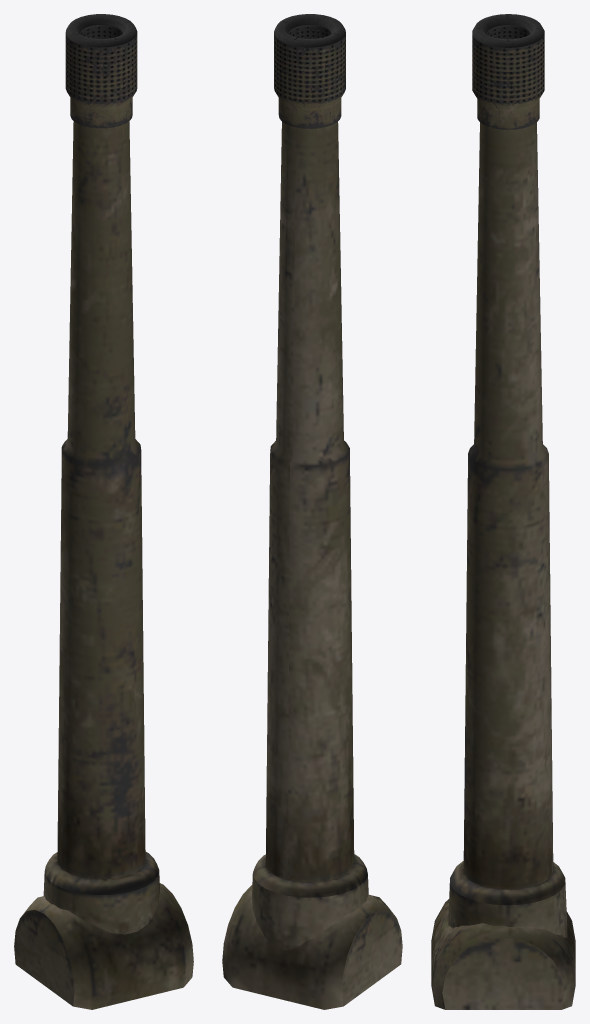
The model's file is Gun_04.glb.
3 renders of one model, left to right at view 1: azimuth 30°, elevation 25°; view 2: azimuth 150°, elevation 25°; view 3: azimuth 270°, elevation 25°, orthographic.
Visible parts, largest first — view 1: set_0_group_0; view 2: set_0_group_0; view 3: set_0_group_0.
Part boxes in pixels (box(x1,y1,x2,y2)): set_0_group_0: box(14, 14, 193, 1009); set_0_group_0: box(222, 14, 402, 1009); set_0_group_0: box(431, 14, 575, 1009).
Bounding box in the file's own units: 0.3954 × 2.99 × 0.409.
Materials: 1 (1 with a texture image).
